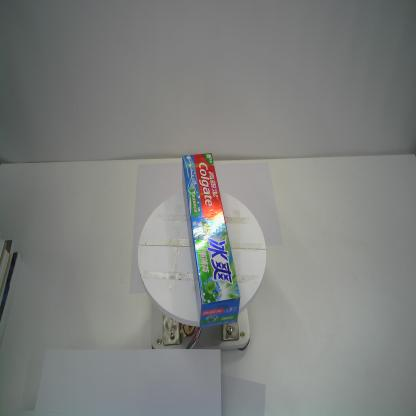Personal Hygiene: (182, 152, 242, 328)
